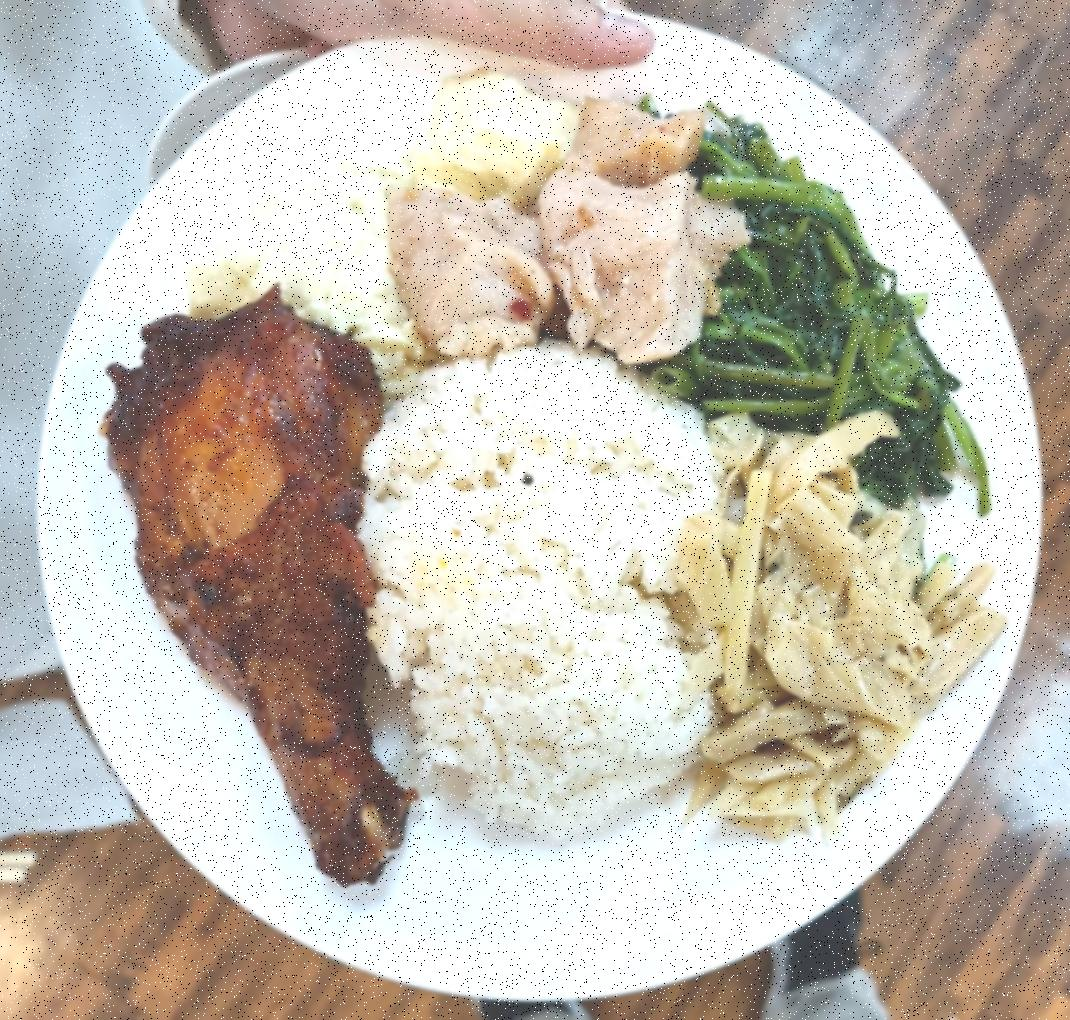big fried chicken leg: (26, 18, 1032, 1008)
big herbal chicken leg: (351, 333, 750, 842)
braised fish fillet: (644, 83, 984, 513), (675, 403, 1000, 844), (166, 66, 540, 352)
braised pork: (107, 293, 438, 898), (386, 103, 740, 359)
